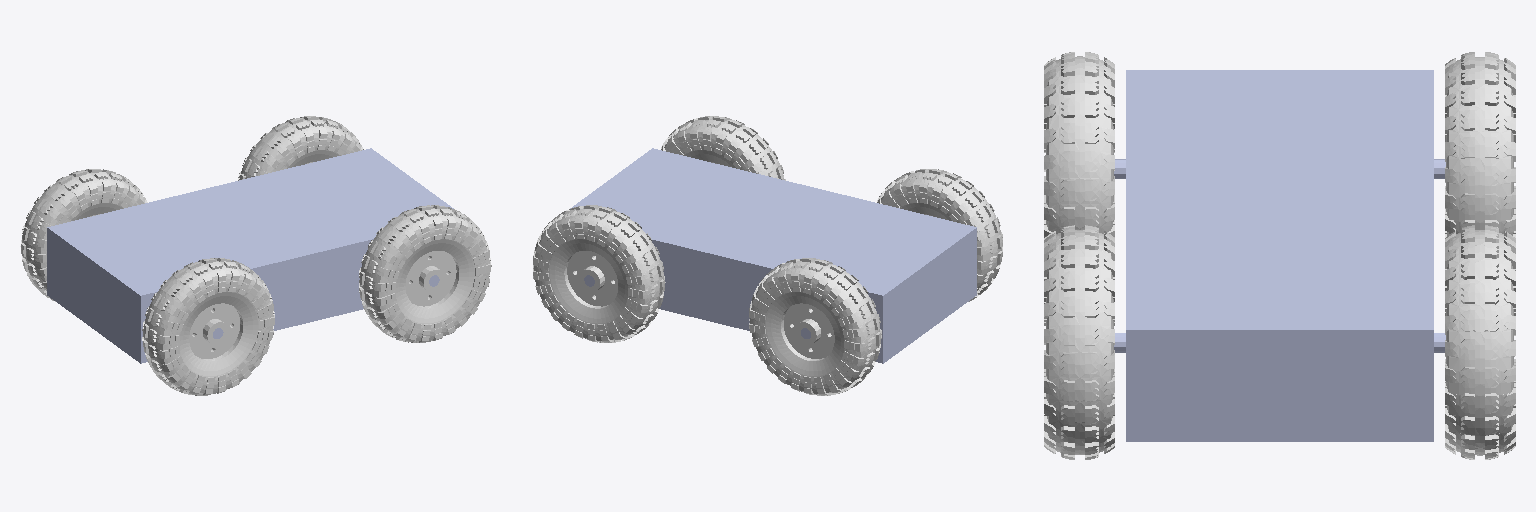
URDF robot description (beru):
<?xml version="1.0" encoding="utf-8"?>
<!-- This URDF was automatically created by SolidWorks to URDF Exporter! Originally created by [author] ([email redacted]) 
     Commit Version: 1.6.0-4-g7f85cfe  Build Version: 1.6.7995.38578
     For more information, please see http://wiki.ros.org/sw_urdf_exporter -->
<robot
  name="beru">
  <link
    name="base_link">
    <inertial>
      <origin
        xyz="-5.69753059622596E-17 3.20113853670739E-17 0.06"
        rpy="0 0 0" />
      <mass
        value="21.6942477796077" />
      <inertia
        ixx="0.191279933343014"
        ixy="7.43271411215649E-17"
        ixz="-2.98049293693505E-18"
        iyy="0.677694623573289"
        iyz="3.28347195804208E-35"
        izz="0.817129844527322" />
    </inertial>
    <visual>
      <origin
        xyz="0 0 0"
        rpy="0 0 0" />
      <geometry>
        <mesh
          filename="package://beru/meshes/base_link.STL" />
      </geometry>
      <material
        name="">
        <color
          rgba="0.792156862745098 0.819607843137255 0.933333333333333 1" />
      </material>
    </visual>
    <collision>
      <origin
        xyz="0 0 0"
        rpy="0 0 0" />
      <geometry>
        <mesh
          filename="package://beru/meshes/base_link.STL" />
      </geometry>
    </collision>
  </link>
  <link
    name="front_left_wheel">
    <inertial>
      <origin
        xyz="0.2 0.195 0.06"
        rpy="0 0 0" />
      <mass
        value="2.1167" />
      <inertia
        ixx="0.0076561"
        ixy="-2.5992E-15"
        ixz="-1.6594E-15"
        iyy="0.014045"
        iyz="-5.6474E-16"
        izz="0.0076561" />
    </inertial>
    <visual>
      <origin
        xyz="0 0 0"
        rpy="0 0 0" />
      <geometry>
        <mesh
          filename="package://beru/meshes/front_left_wheel.STL" />
      </geometry>
      <material
        name="">
        <color
          rgba="0.89804 0.89804 0.89804 1" />
      </material>
    </visual>
    <collision>
      <origin
        xyz="0 0 0"
        rpy="0 0 0" />
      <geometry>
        <mesh
          filename="package://beru/meshes/front_left_wheel.STL" />
      </geometry>
    </collision>
  </link>
  <joint
    name="front_left_joint"
    type="continuous">
    <origin
      xyz="0 0 0"
      rpy="0 0 0" />
    <parent
      link="base_link" />
    <child
      link="front_left_wheel" />
    <axis
      xyz="0 1 0" />
    <limit
      effort="1000"
      velocity="1000" />
    <dynamics
      damping="1"
      friction="1" />
  </joint>
  <link
    name="front_right_wheel">
    <inertial>
      <origin
        xyz="0.2 -0.195 0.06"
        rpy="0 0 0" />
      <mass
        value="2.1167" />
      <inertia
        ixx="0.0076561"
        ixy="-2.6002E-15"
        ixz="1.6718E-15"
        iyy="0.014045"
        iyz="5.6109E-16"
        izz="0.0076561" />
    </inertial>
    <visual>
      <origin
        xyz="0 0 0"
        rpy="0 0 0" />
      <geometry>
        <mesh
          filename="package://beru/meshes/front_right_wheel.STL" />
      </geometry>
      <material
        name="">
        <color
          rgba="0.89804 0.89804 0.89804 1" />
      </material>
    </visual>
    <collision>
      <origin
        xyz="0 0 0"
        rpy="0 0 0" />
      <geometry>
        <mesh
          filename="package://beru/meshes/front_right_wheel.STL" />
      </geometry>
    </collision>
  </link>
  <joint
    name="front_right_joint"
    type="continuous">
    <origin
      xyz="0 0 0"
      rpy="0 0 0" />
    <parent
      link="base_link" />
    <child
      link="front_right_wheel" />
    <axis
      xyz="0 -1 0" />
    <limit
      effort="1000"
      velocity="1000" />
    <dynamics
      damping="1"
      friction="1" />
  </joint>
  <link
    name="rear_left_wheel">
    <inertial>
      <origin
        xyz="-0.2 0.195 0.06"
        rpy="0 0 0" />
      <mass
        value="2.1167" />
      <inertia
        ixx="0.0076561"
        ixy="-2.5982E-15"
        ixz="-1.6501E-15"
        iyy="0.014045"
        iyz="-5.6243E-16"
        izz="0.0076561" />
    </inertial>
    <visual>
      <origin
        xyz="0 0 0"
        rpy="0 0 0" />
      <geometry>
        <mesh
          filename="package://beru/meshes/rear_left_wheel.STL" />
      </geometry>
      <material
        name="">
        <color
          rgba="0.89804 0.89804 0.89804 1" />
      </material>
    </visual>
    <collision>
      <origin
        xyz="0 0 0"
        rpy="0 0 0" />
      <geometry>
        <mesh
          filename="package://beru/meshes/rear_left_wheel.STL" />
      </geometry>
    </collision>
  </link>
  <joint
    name="rear_left_joint"
    type="continuous">
    <origin
      xyz="0 0 0"
      rpy="0 0 0" />
    <parent
      link="base_link" />
    <child
      link="rear_left_wheel" />
    <axis
      xyz="0 1 0" />
    <limit
      effort="1000"
      velocity="1000" />
    <dynamics
      damping="1"
      friction="1" />
  </joint>
  <link
    name="rear_right_wheel">
    <inertial>
      <origin
        xyz="-0.2 -0.195 0.06"
        rpy="0 0 0" />
      <mass
        value="2.1167" />
      <inertia
        ixx="0.0076561"
        ixy="-2.5969E-15"
        ixz="1.6561E-15"
        iyy="0.014045"
        iyz="5.6309E-16"
        izz="0.0076561" />
    </inertial>
    <visual>
      <origin
        xyz="0 0 0"
        rpy="0 0 0" />
      <geometry>
        <mesh
          filename="package://beru/meshes/rear_right_wheel.STL" />
      </geometry>
      <material
        name="">
        <color
          rgba="0.89804 0.89804 0.89804 1" />
      </material>
    </visual>
    <collision>
      <origin
        xyz="0 0 0"
        rpy="0 0 0" />
      <geometry>
        <mesh
          filename="package://beru/meshes/rear_right_wheel.STL" />
      </geometry>
    </collision>
  </link>
  <joint
    name="rear_right_joint"
    type="continuous">
    <origin
      xyz="0 0 0"
      rpy="0 0 0" />
    <parent
      link="base_link" />
    <child
      link="rear_right_wheel" />
    <axis
      xyz="0 1 0" />
    <limit
      effort="1000"
      velocity="1000" />
    <dynamics
      damping="1"
      friction="1" />
  </joint>
</robot>

--- What the picture shows (computed from the rendered views, not written in the file) ---
3 views of the same robot in one strip: view 1: azimuth 30°, elevation 25°; view 2: azimuth 150°, elevation 25°; view 3: azimuth 270°, elevation 25° (orthographic).
Robot: beru — 5 links, 4 joints (4 continuous); root link base_link; default pose: every joint at zero.
Links seen in each view (by area): view 1: base_link, rear_right_wheel, front_right_wheel, rear_left_wheel, front_left_wheel; view 2: base_link, rear_left_wheel, front_left_wheel, rear_right_wheel, front_right_wheel; view 3: base_link, front_left_wheel, front_right_wheel, rear_right_wheel, rear_left_wheel.
Boxes of the visible links, box(x1,y1,x2,y2) form: base_link: box(47, 148, 453, 363); rear_right_wheel: box(142, 258, 274, 395); front_right_wheel: box(359, 205, 491, 342); rear_left_wheel: box(20, 169, 147, 301); front_left_wheel: box(238, 116, 363, 180); base_link: box(570, 148, 976, 363); rear_left_wheel: box(749, 258, 881, 395); front_left_wheel: box(533, 205, 665, 342); rear_right_wheel: box(877, 169, 1002, 301); front_right_wheel: box(661, 116, 785, 180); base_link: box(1114, 70, 1445, 441); front_left_wheel: box(1445, 225, 1515, 459); front_right_wheel: box(1044, 225, 1114, 459); rear_right_wheel: box(1044, 52, 1114, 237); rear_left_wheel: box(1445, 52, 1515, 237).
Bounding box of the posed robot: 0.6295 × 0.459 × 0.2295 m (x, y, z).
Meshes: 5 distinct files referenced, 5 mesh visuals loaded (5 binary STL).
